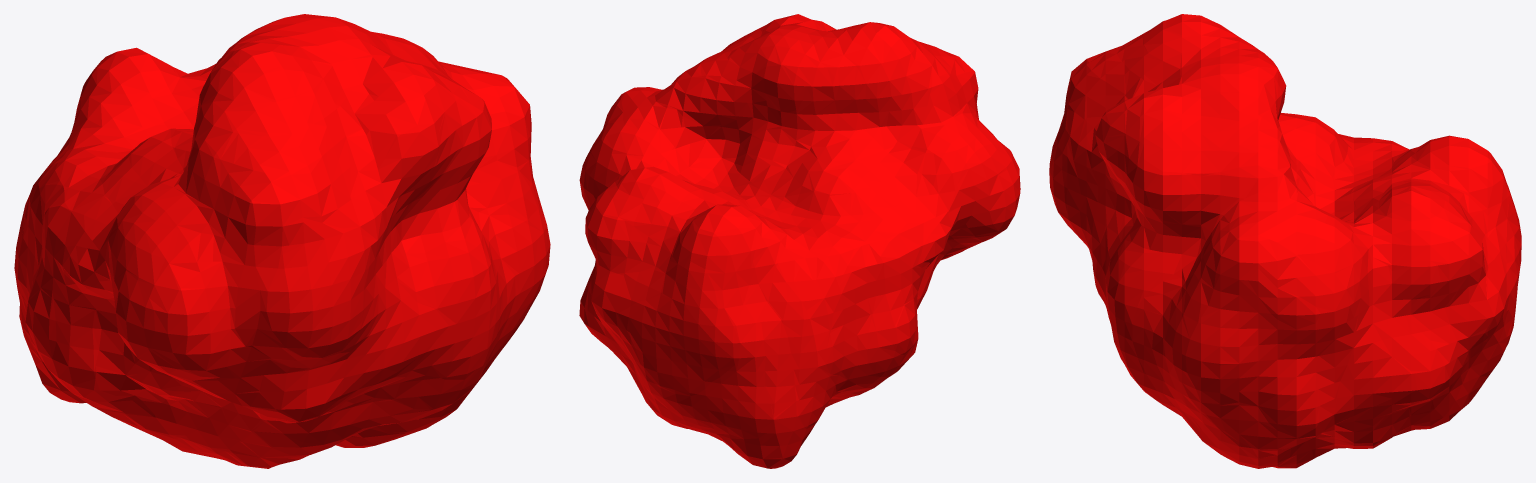
File: yajO_coarse.dae
3 views of the same model, side by side, from view 1: azimuth 30°, elevation 25°; view 2: azimuth 150°, elevation 25°; view 3: azimuth 270°, elevation 25° (orthographic). The views are drawn at different scales.
Parts seen in each view (by area): view 1: yajO; view 2: yajO; view 3: yajO.
Boxes of the visible parts, bbox=[...] form: yajO: bbox=[14, 14, 550, 468]; yajO: bbox=[579, 14, 1020, 468]; yajO: bbox=[1049, 14, 1521, 468].
Size of the model in its own units: 53.53 by 51.43 by 56.89.
